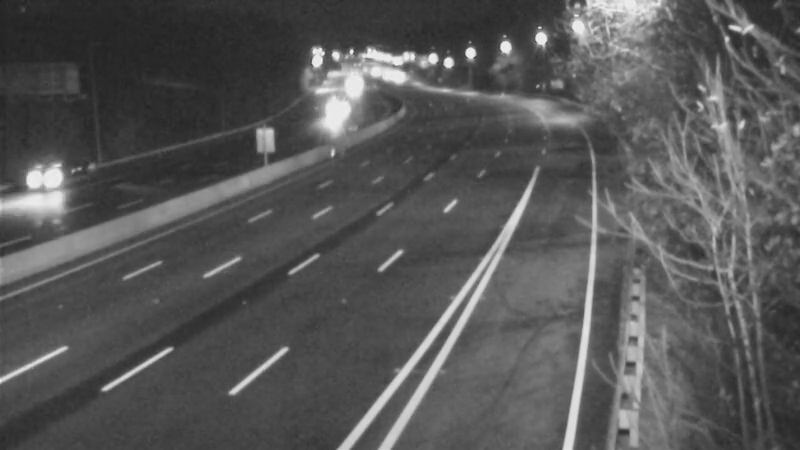vehicle: (12, 140, 92, 220), (305, 88, 355, 138)
